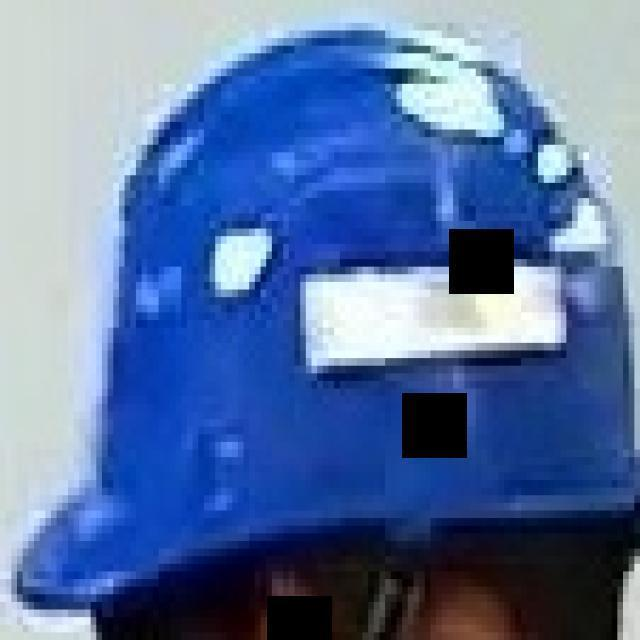blue helmet: (10, 19, 640, 640)
